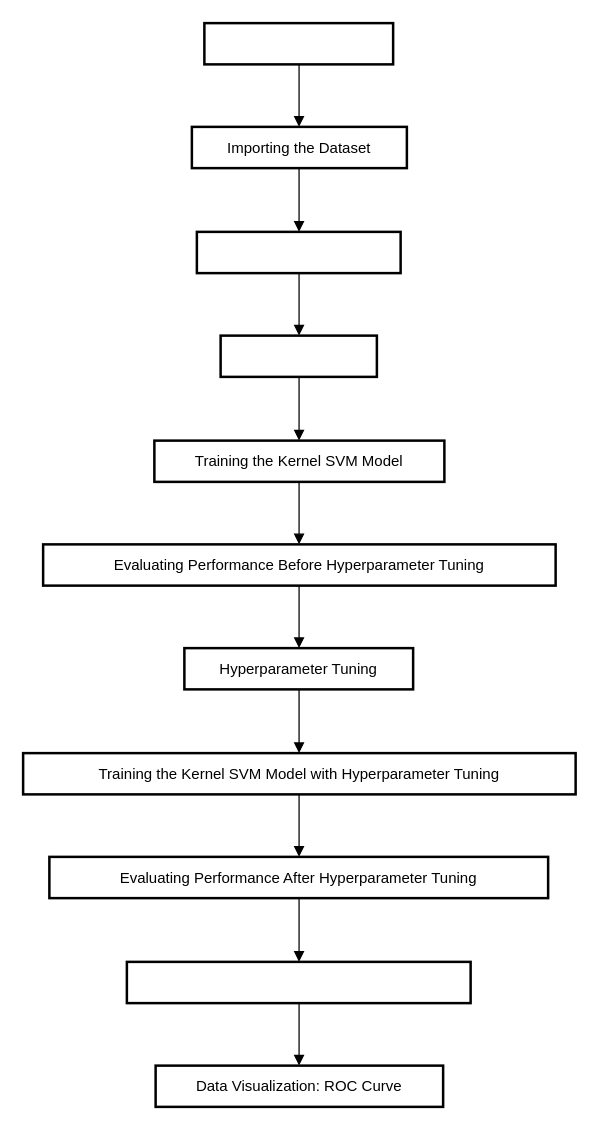
Image size: 598x1129. Some labels were removed from this diagram. Here are the shapes that lost their labels. From the top down, the centre of each, then its label:
At pixel 298 43: "Importing Libraries".
At pixel 298 252: "Splitting the Dataset".
At pixel 298 356: "Feature Scaling".
At pixel 298 982: "Data Visualization: Confusion Matrix".
